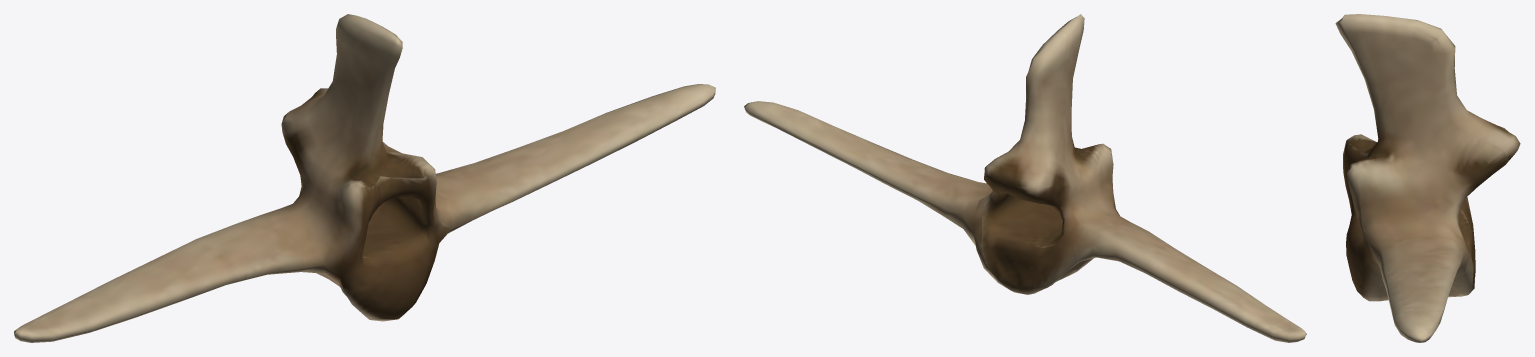
File: Lumbar_Vertebrae3.glb
3 renders of one model, left to right at view 1: azimuth 30°, elevation 25°; view 2: azimuth 150°, elevation 25°; view 3: azimuth 270°, elevation 25°, orthographic. The views are drawn at different scales.
Parts seen in each view (by area): view 1: Horse_low:SelSet_58Merged_L_Frt_Sesamoid_Bones_1; view 2: Horse_low:SelSet_58Merged_L_Frt_Sesamoid_Bones_1; view 3: Horse_low:SelSet_58Merged_L_Frt_Sesamoid_Bones_1.
Boxes of the visible parts, x1,y1,x2,y2 form: Horse_low:SelSet_58Merged_L_Frt_Sesamoid_Bones_1: (14,14,715,342); Horse_low:SelSet_58Merged_L_Frt_Sesamoid_Bones_1: (744,14,1306,342); Horse_low:SelSet_58Merged_L_Frt_Sesamoid_Bones_1: (1335,14,1520,342).
Size of the model in its own units: 0.3294 by 0.1376 by 0.0815.
Materials: 1 (1 with a texture image).
